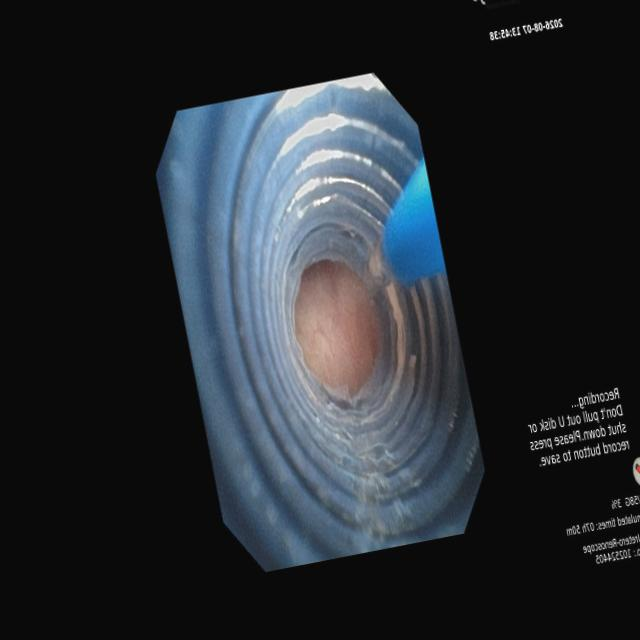laser-fibre: (365, 243, 392, 292)
